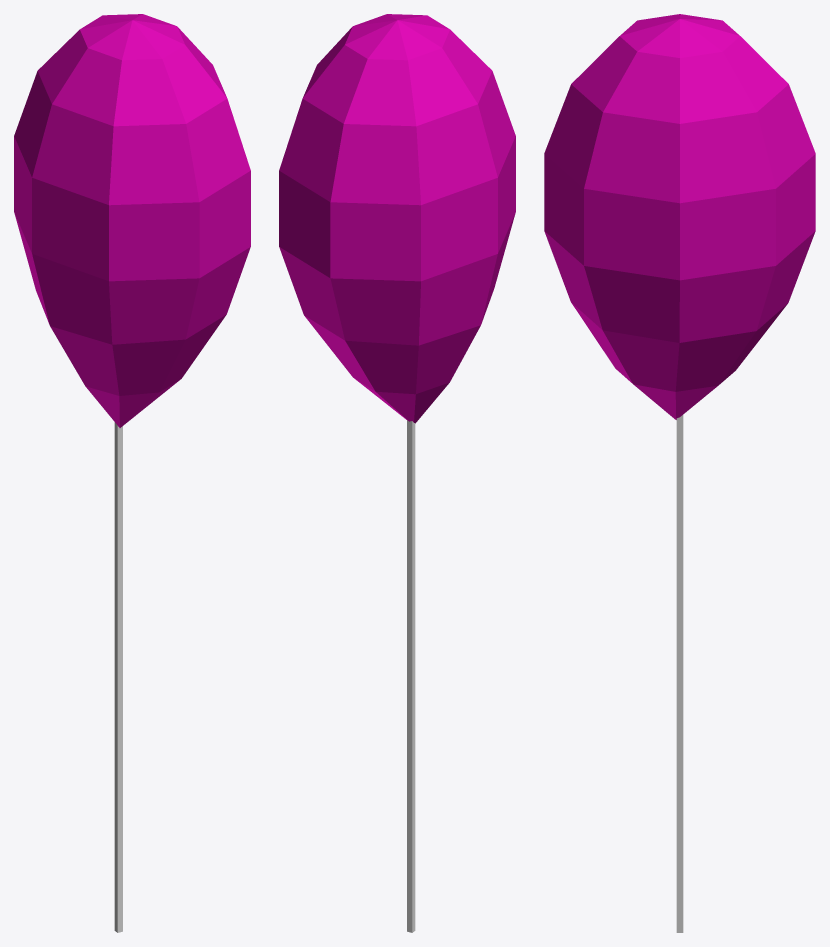
Rendered from bloonpink.fbx.
3 views of the same model, side by side, from view 1: azimuth 30°, elevation 25°; view 2: azimuth 150°, elevation 25°; view 3: azimuth 270°, elevation 25° (orthographic).
Visible parts, largest first — view 1: bloon, Cube; view 2: bloon, Cube; view 3: bloon, Cube.
Part boxes in pixels (<box>): bloon: <box>14,14,250,427</box>; Cube: <box>114,422,122,932</box>; bloon: <box>279,14,515,423</box>; Cube: <box>407,420,415,932</box>; bloon: <box>544,14,815,419</box>; Cube: <box>676,415,683,932</box>.
Bounding box in the file's own units: 48.12 × 208 × 55.63.
